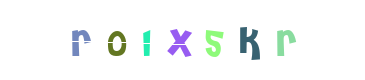0: (76, 0, 156, 80)
1: (106, 0, 186, 80)
5: (142, 0, 222, 80)
K: (198, 0, 278, 80)
R: (67, 0, 147, 80), (209, 0, 289, 80)
X: (140, 0, 220, 80)
